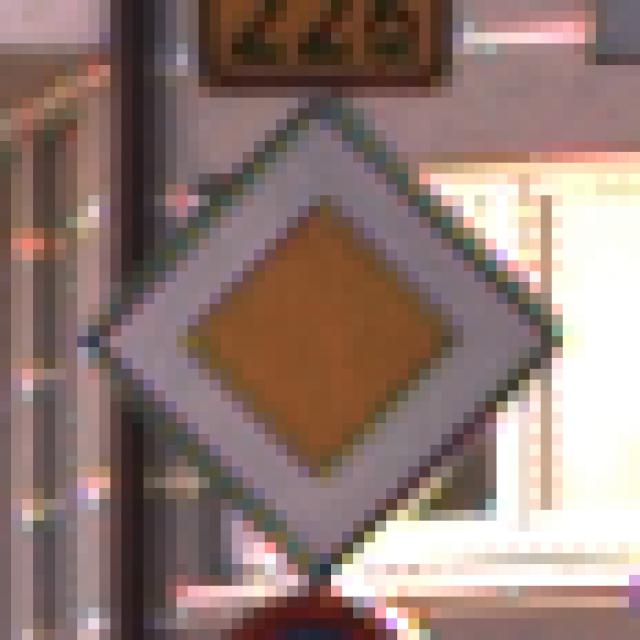Main Road: (67, 66, 586, 587)
